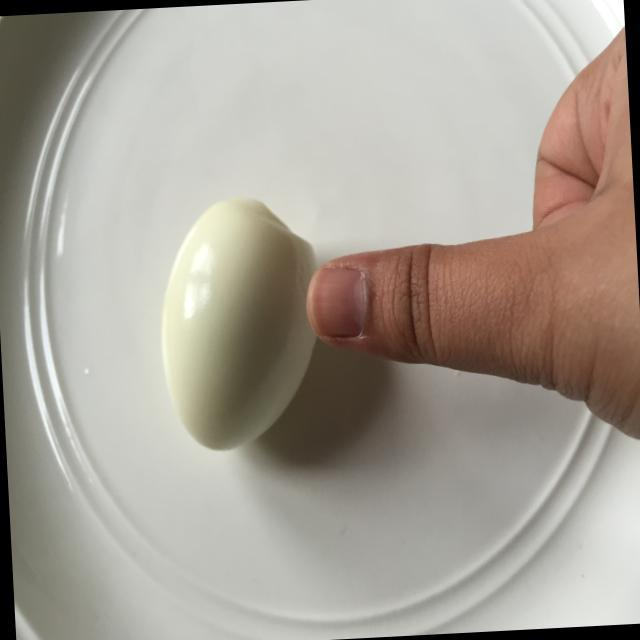Egg: (146, 184, 314, 461)
Finger: (304, 232, 486, 376)
